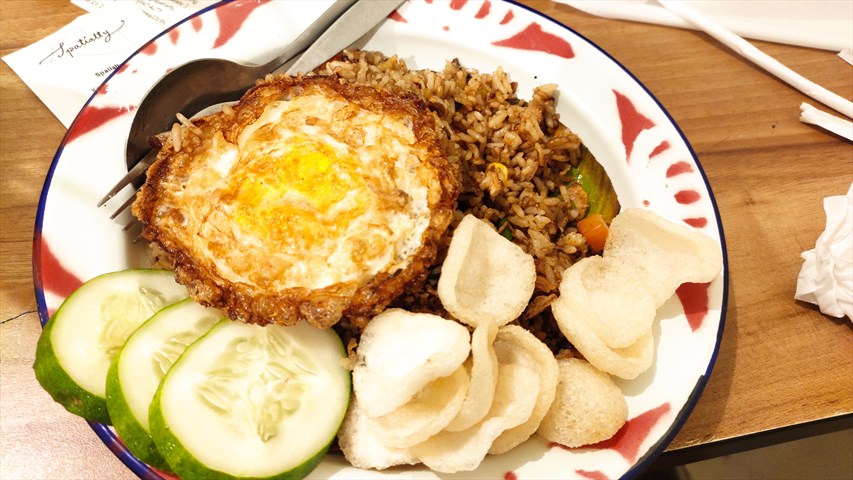Nasi Goreng: (82, 55, 734, 445)
